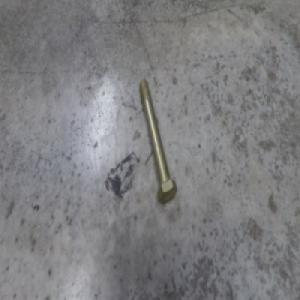Bolt: (138, 78, 177, 201)
